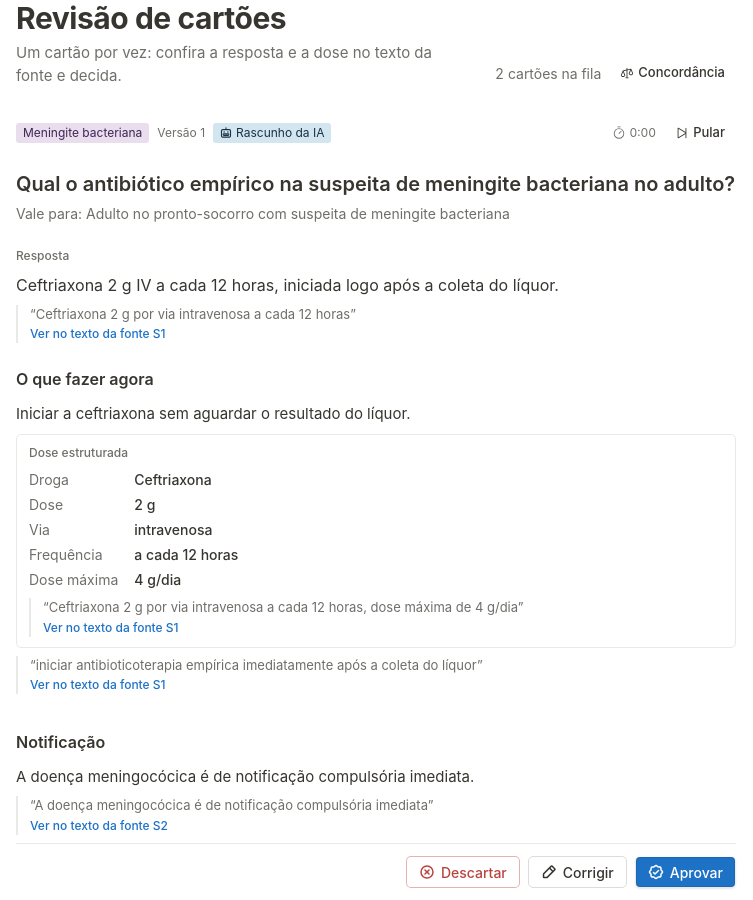
Test: Revisão de cartões (CC-404) › mostra no campo o problema de citação que a API devolveu
Expected: the heading "Qual o antibiótico empírico na suspeita de meningite bacteriana no adulto?" is shown, [16,171,736,197]
Click the 3rd button named "Corrigir" at (577, 872), box [528,856,627,888]
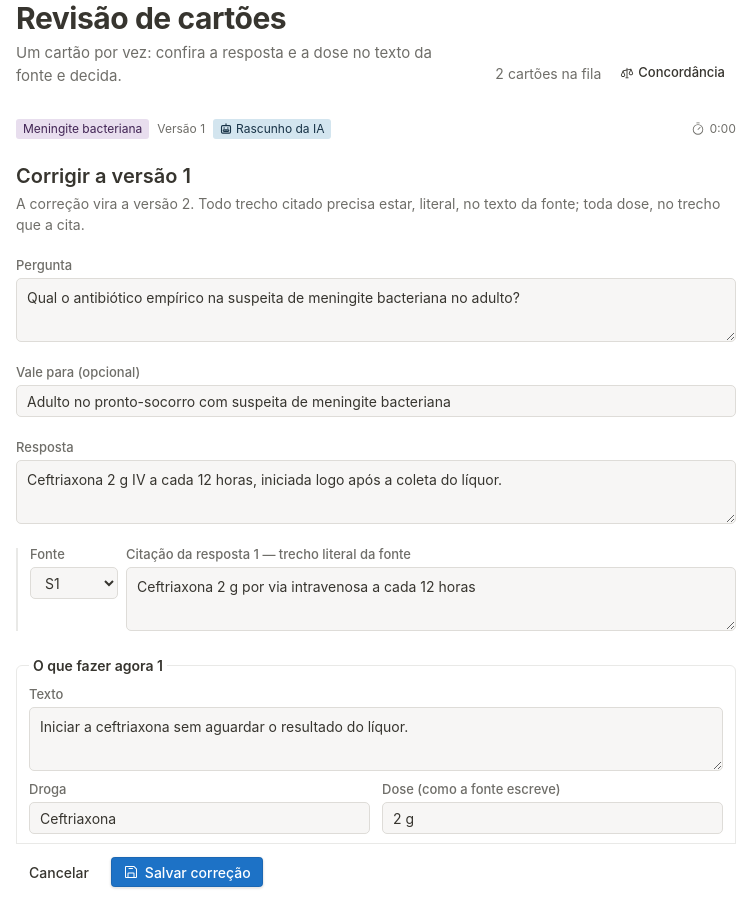
Replace the text in the field labelled "Dose (como a fonte escreve)" with "4 g" at (552, 818), box [382,802,723,834]
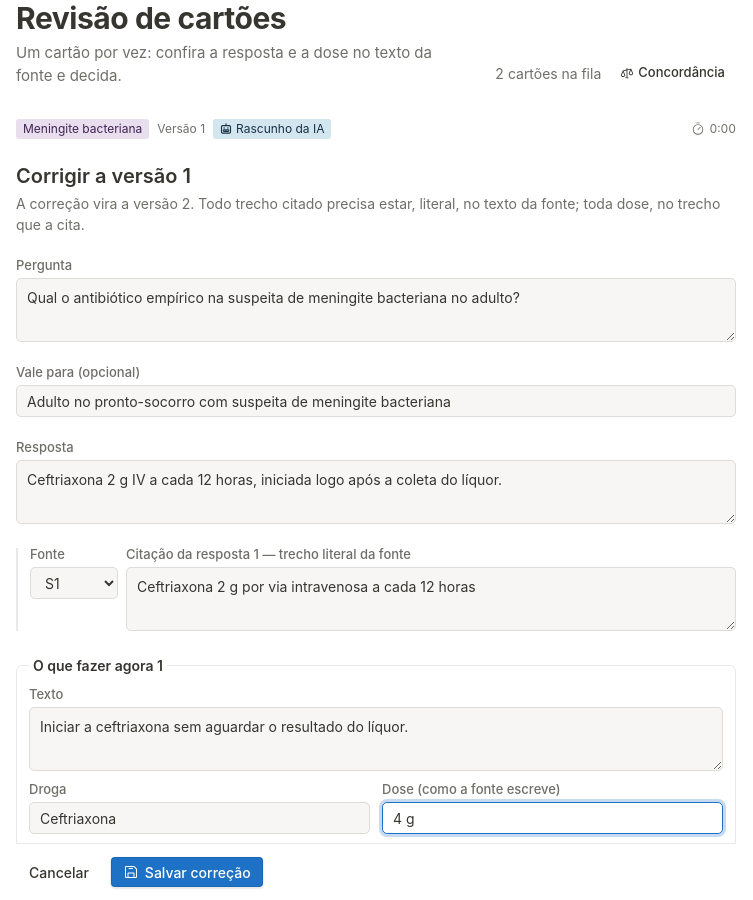
Click the 2nd button named "Salvar correção" at (187, 872), box [110,856,264,888]
(page scrolled)
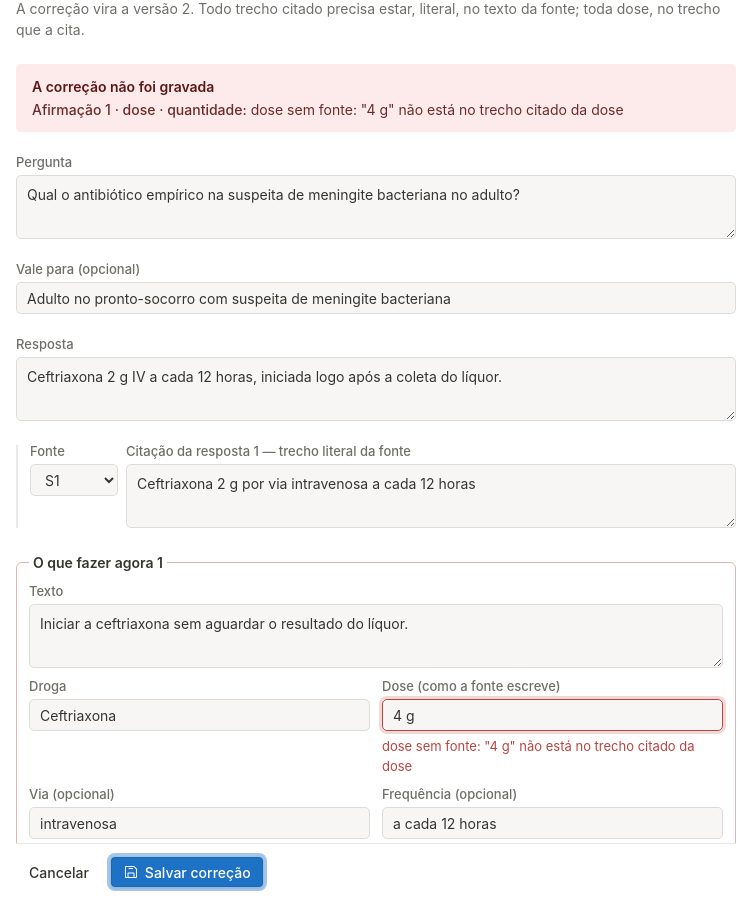
Now the message shows "A correção não foi gravada", box [32,78,214,95]
Now the message shows "Afirmação 1 · dose · quantidade", box [32,101,242,118]
